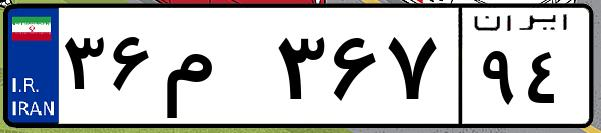3: (270, 28, 330, 110), (57, 26, 110, 100)
4: (525, 38, 570, 115)
6: (330, 28, 385, 110), (110, 28, 158, 98)
7: (385, 28, 445, 110)
9: (475, 38, 525, 113)
م: (158, 20, 270, 120)
